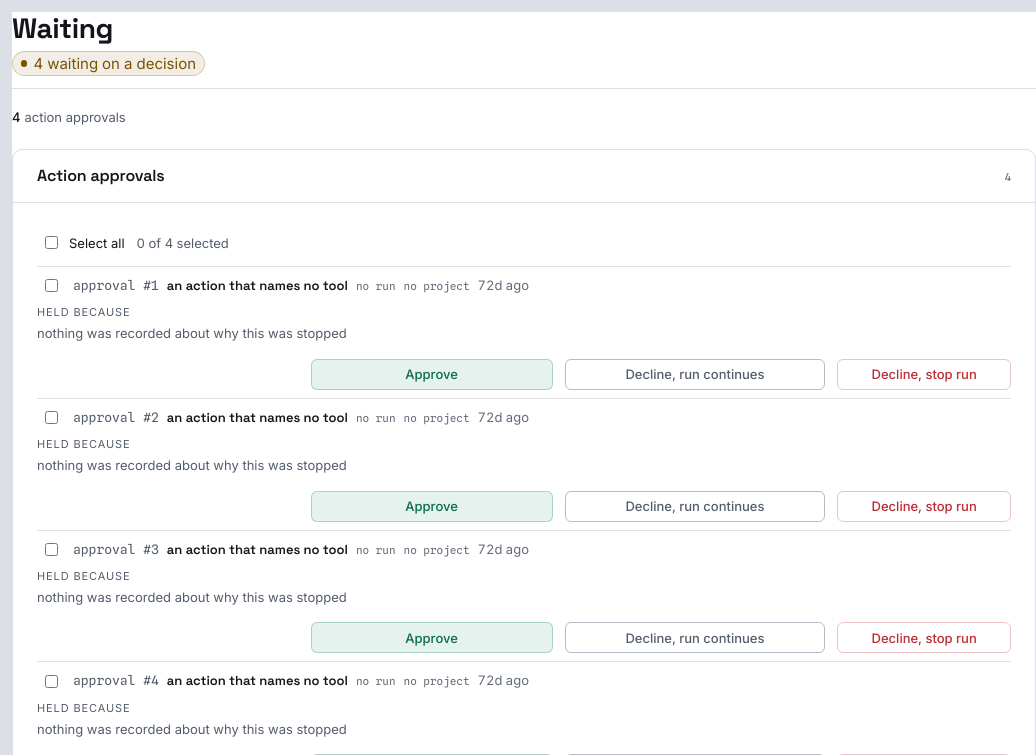
Test: Waiting - batch action approvals › Select all takes every row and Clear empties the selection
Expected: the checkbox named "Select approval #1" is shown, top-left (44, 279), bottom-right (58, 292)
Expected: the button "Clear" is not shown
What coordinates should you click on to do the following:
click the checkbox labelled "Select all"
I would click on:
 (51, 243)
Its box is top-left (44, 236), bottom-right (58, 249).
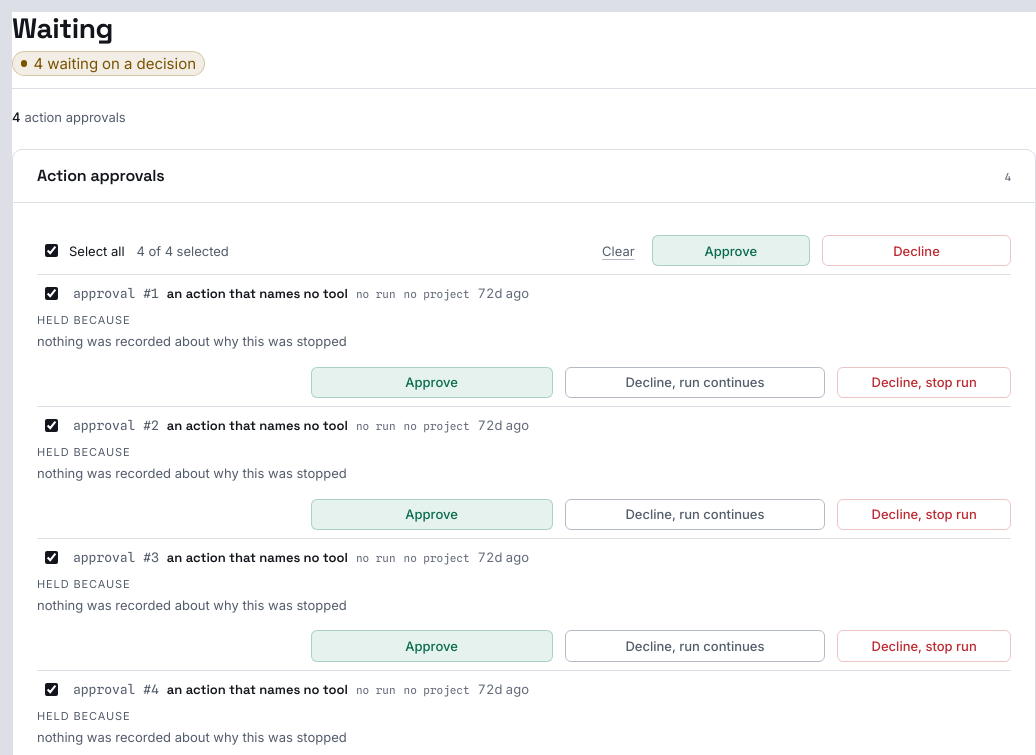
Expected: the checkbox named "Select approval #1" is checked, top-left (44, 287), bottom-right (58, 300)
Expected: the checkbox named "Select approval #4" is checked, top-left (44, 683), bottom-right (58, 696)
Expected: the text "4 of 4 selected" is shown, top-left (137, 242), bottom-right (229, 258)
What coordinates should you click on to do the following:
click the button "Clear"
I would click on:
 (618, 251)
Its box is top-left (597, 237), bottom-right (640, 265).
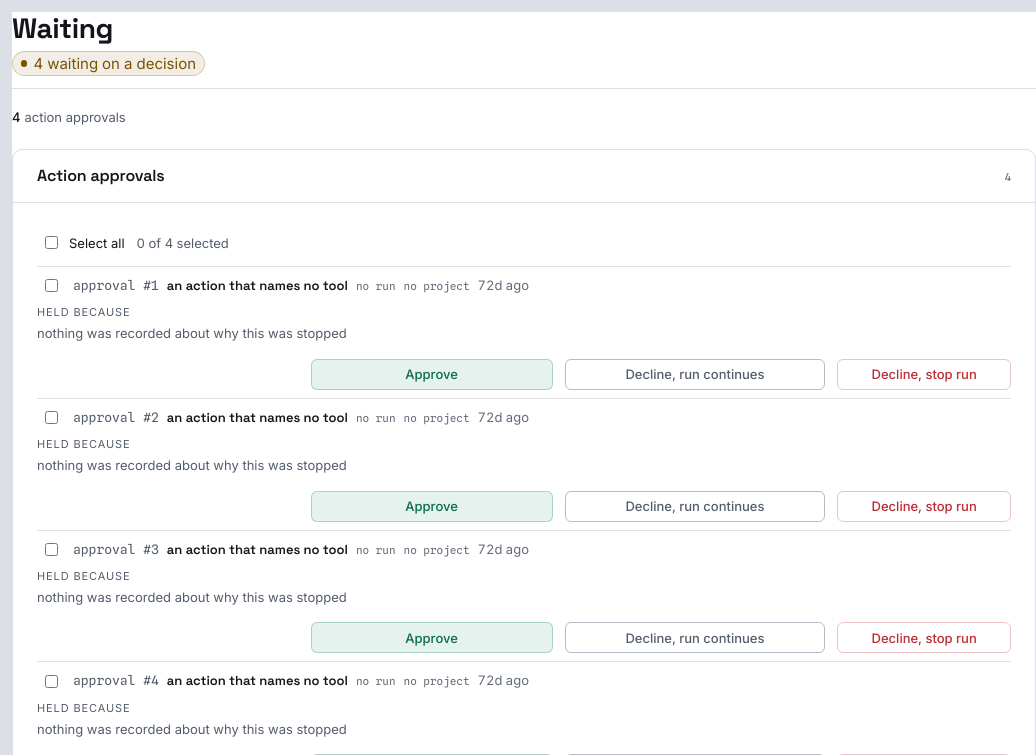
Expected: the checkbox named "Select approval #1" is not checked, top-left (44, 279), bottom-right (58, 292)
Expected: the checkbox named "Select approval #4" is not checked, top-left (44, 674), bottom-right (58, 688)
Expected: the text "0 of 4 selected" is shown, top-left (137, 234), bottom-right (229, 250)
